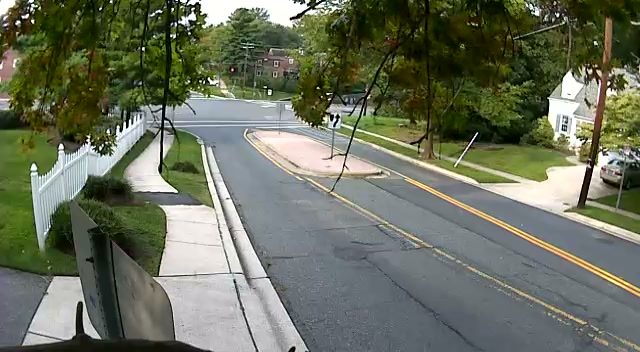car: (599, 155, 640, 190)
